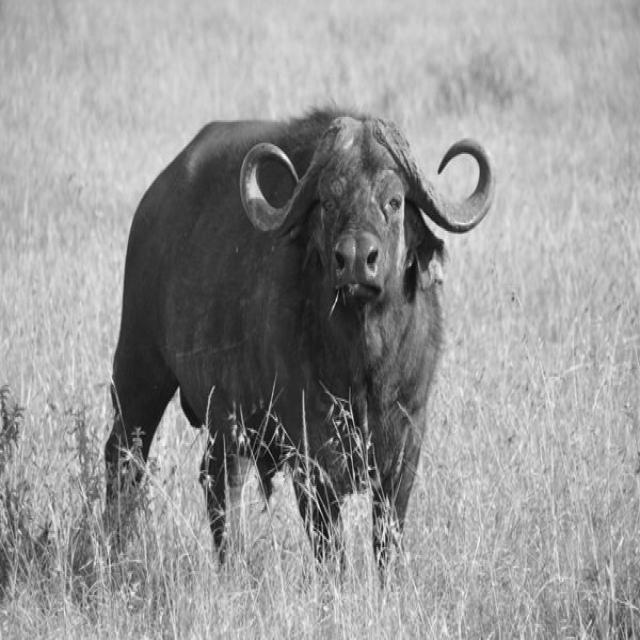Buffalo: (104, 114, 494, 590)
